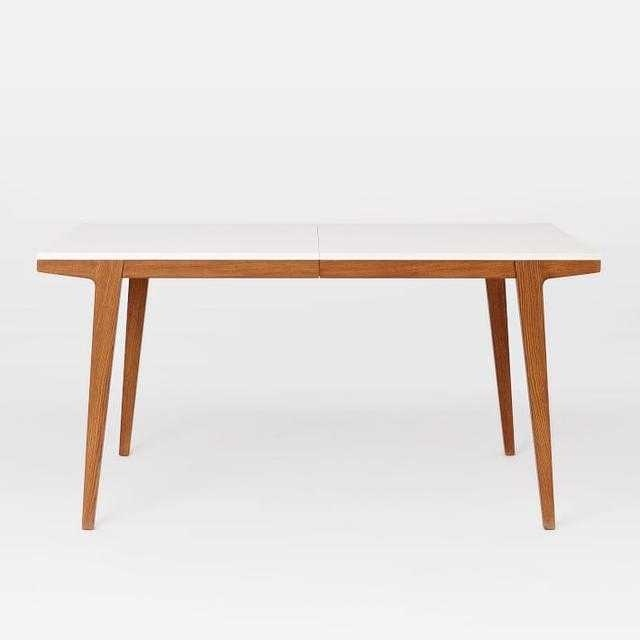obstacle: (37, 224, 600, 529)
